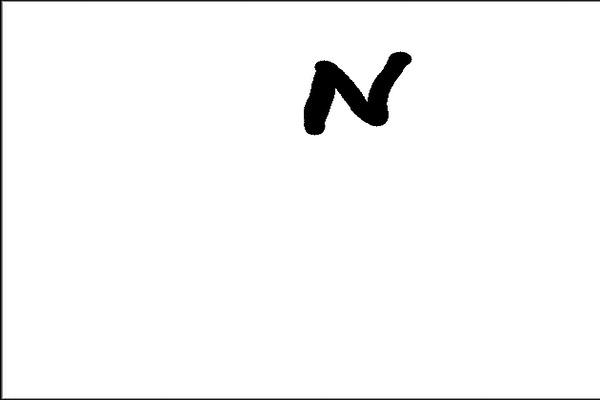N: (297, 44, 416, 143)
